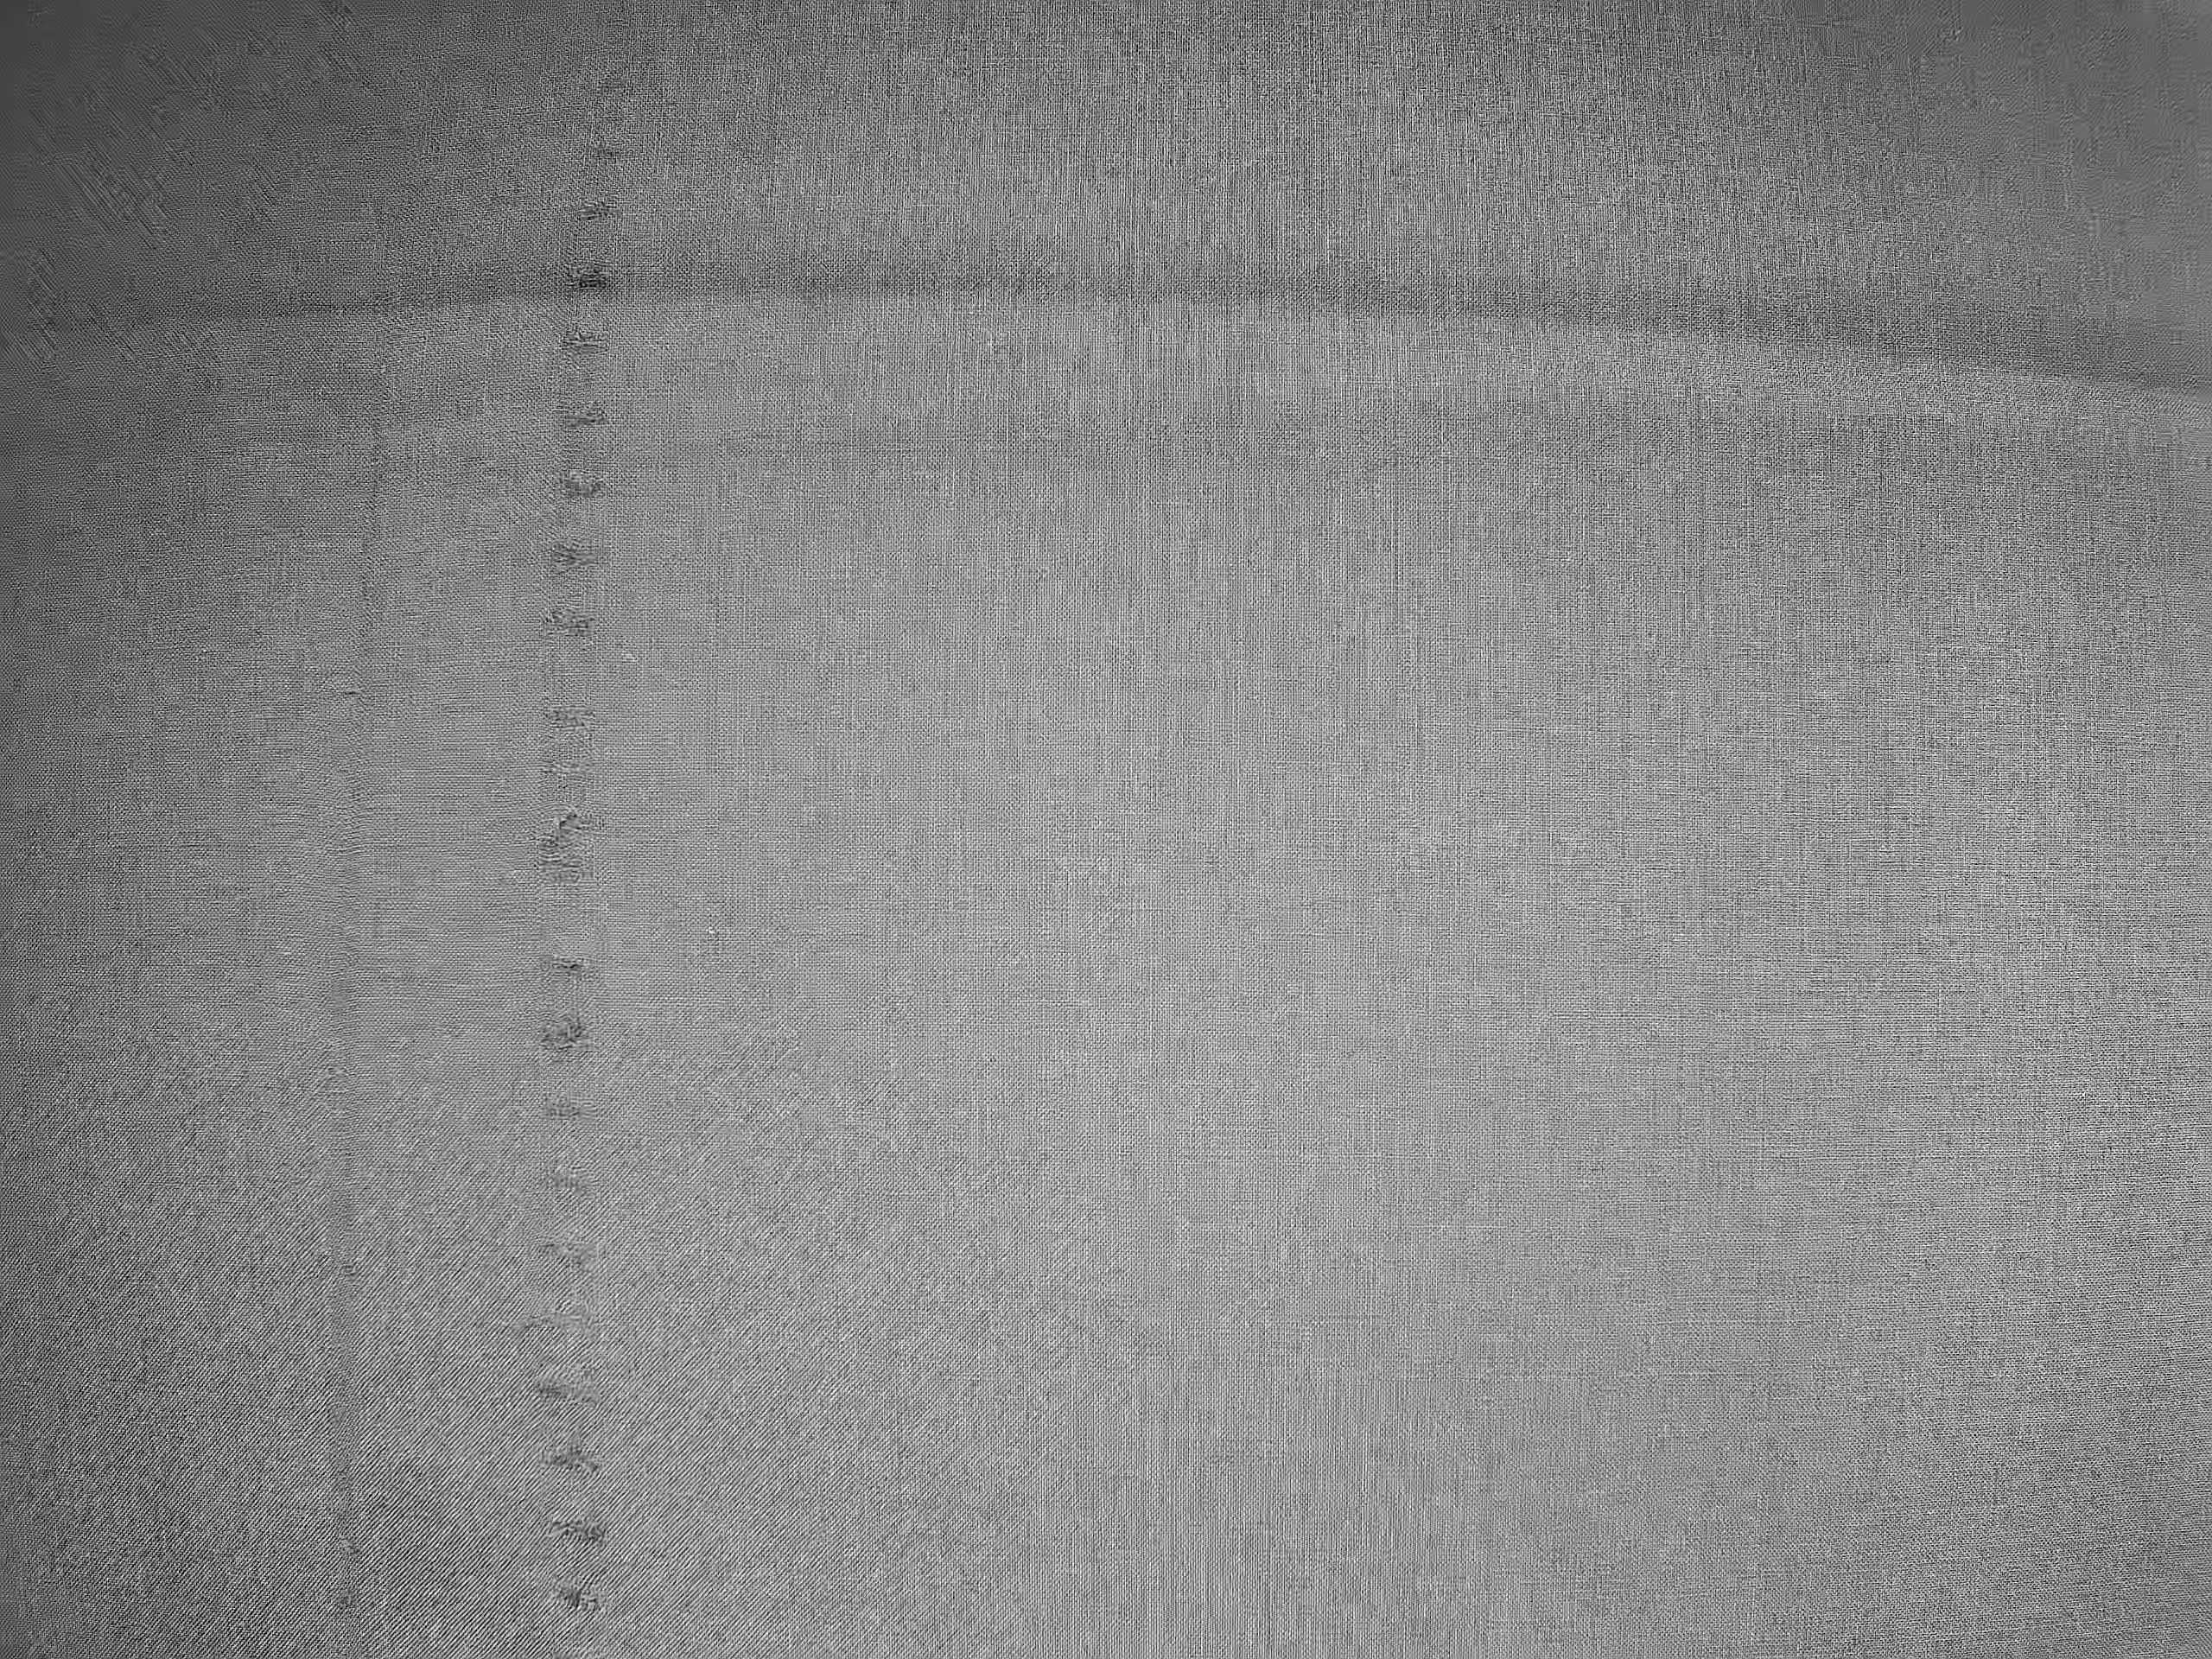rubbing-hole: (542, 68, 632, 1621)
